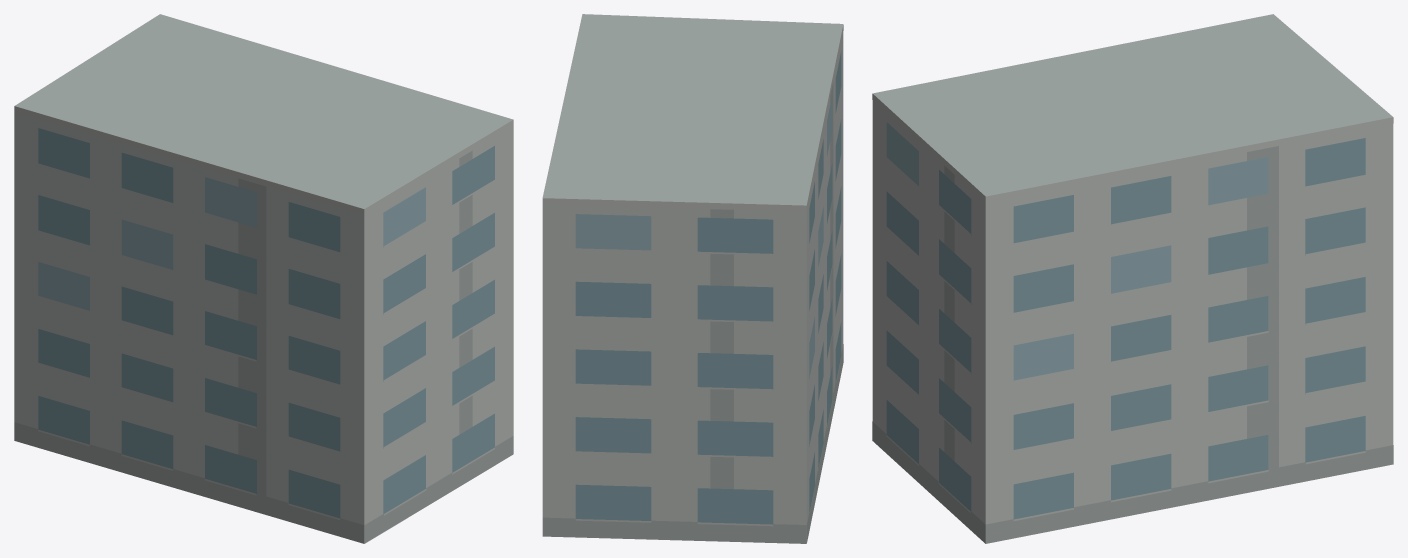
Rendered from survey-upis-32528441.glb.
The picture shows the model from 3 angles, left to right: view 1: azimuth 30°, elevation 25°; view 2: azimuth 150°, elevation 25°; view 3: azimuth 270°, elevation 25°; orthographic projection. The views are drawn at different scales.
Visible parts, largest first — view 1: survey-upis-32528441.tmp; view 2: survey-upis-32528441.tmp; view 3: survey-upis-32528441.tmp.
Part boxes in pixels (box(x1,y1,x2,y2)): survey-upis-32528441.tmp: box(14, 14, 513, 543); survey-upis-32528441.tmp: box(542, 14, 843, 543); survey-upis-32528441.tmp: box(872, 14, 1393, 543).
Bounding box in the file's own units: 14.72 × 13.05 × 17.75.
